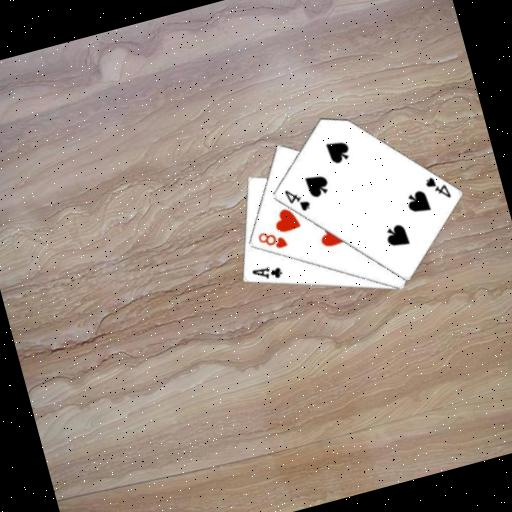4S: (419, 169, 452, 204), (280, 181, 312, 216)
8H: (252, 223, 289, 254)
AC: (248, 259, 285, 286)
